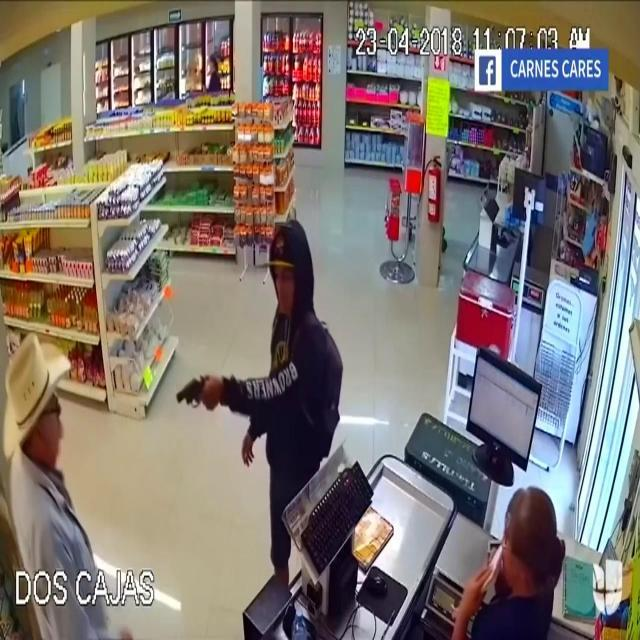weapon: (170, 364, 216, 422)
